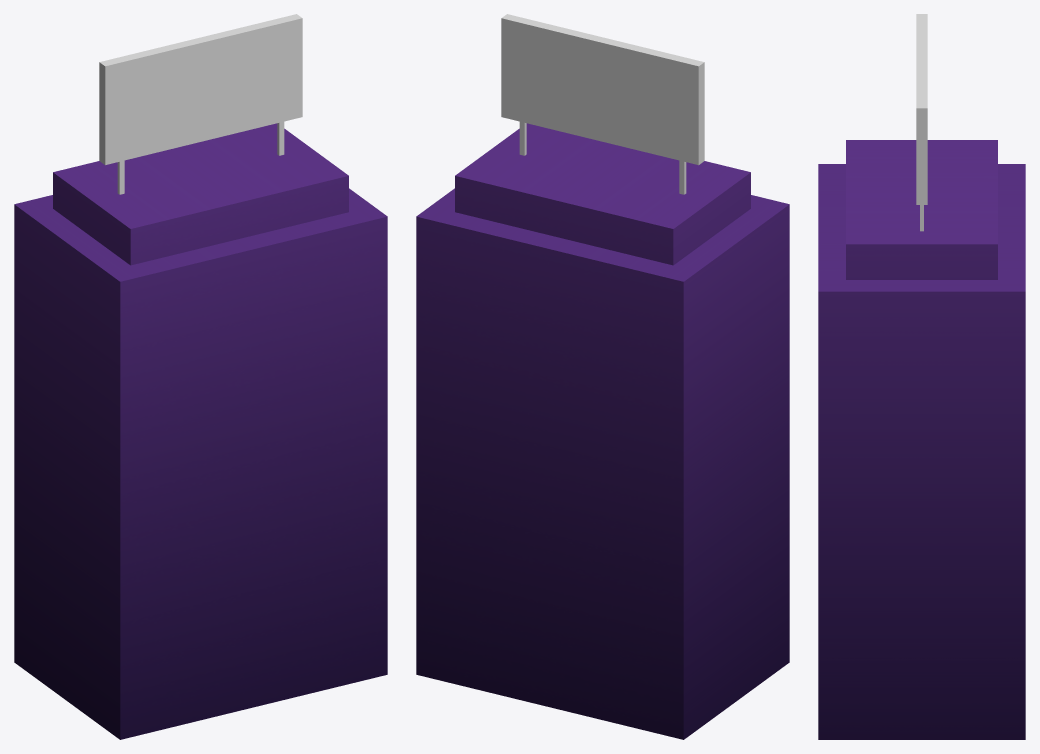
File: FBX_Building_005.fbx
3 views of the same model, side by side, from view 1: azimuth 30°, elevation 25°; view 2: azimuth 150°, elevation 25°; view 3: azimuth 270°, elevation 25° (orthographic). The views are drawn at different scales.
Visible parts, largest first — view 1: Cube.007, Cube.012; view 2: Cube.007, Cube.012; view 3: Cube.007, Cube.012.
Boxes of the visible parts, x1,y1,x2,y2 form: Cube.007: [14, 123, 387, 739]; Cube.012: [99, 14, 302, 194]; Cube.007: [416, 123, 789, 739]; Cube.012: [501, 14, 704, 194]; Cube.007: [818, 140, 1025, 739]; Cube.012: [916, 14, 927, 231].
Bounding box in the file's own units: 401 × 901 × 275.
1 material, 1 textured.
